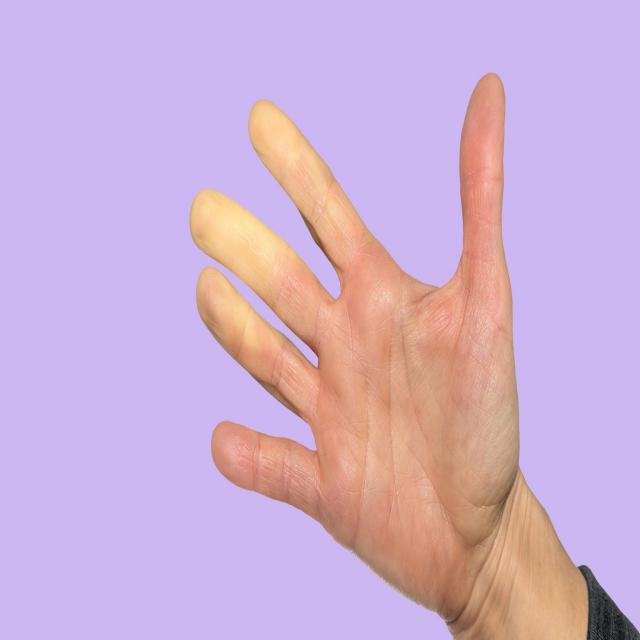raynauds: (244, 78, 350, 248), (181, 170, 286, 308)
